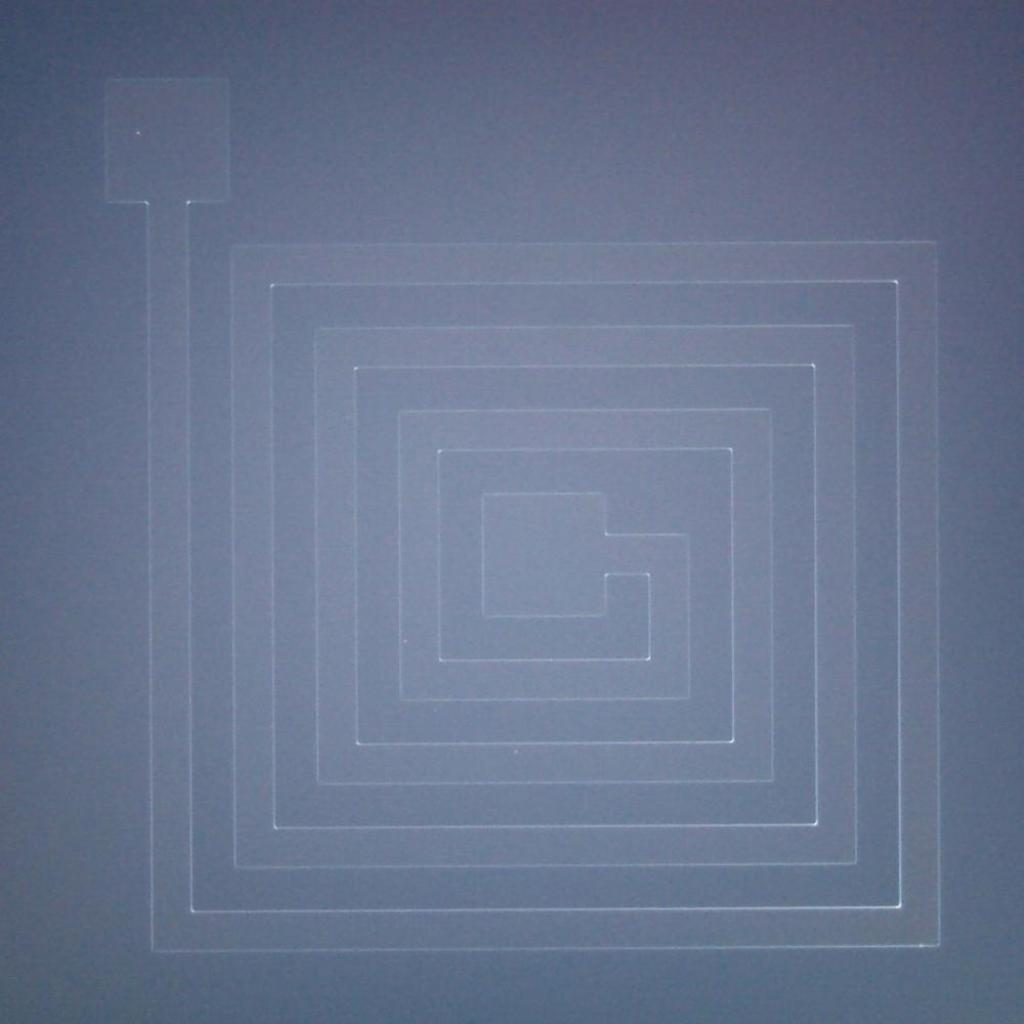dot: (136, 130, 140, 134)
